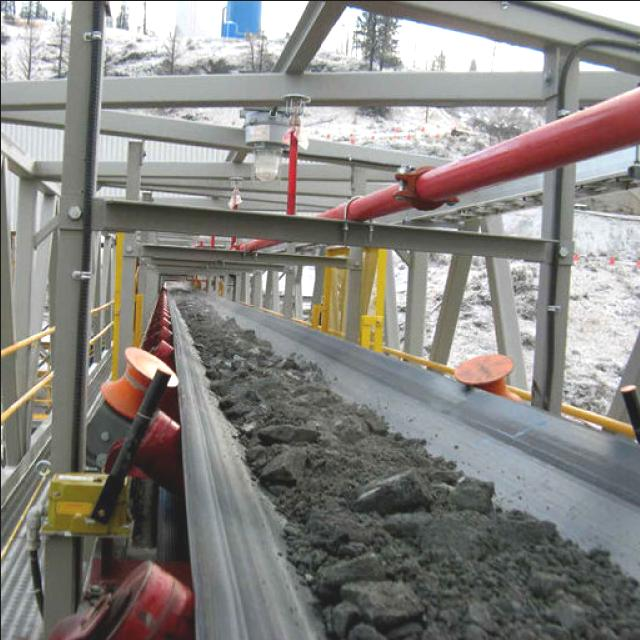conveyor: (157, 284, 640, 640)
